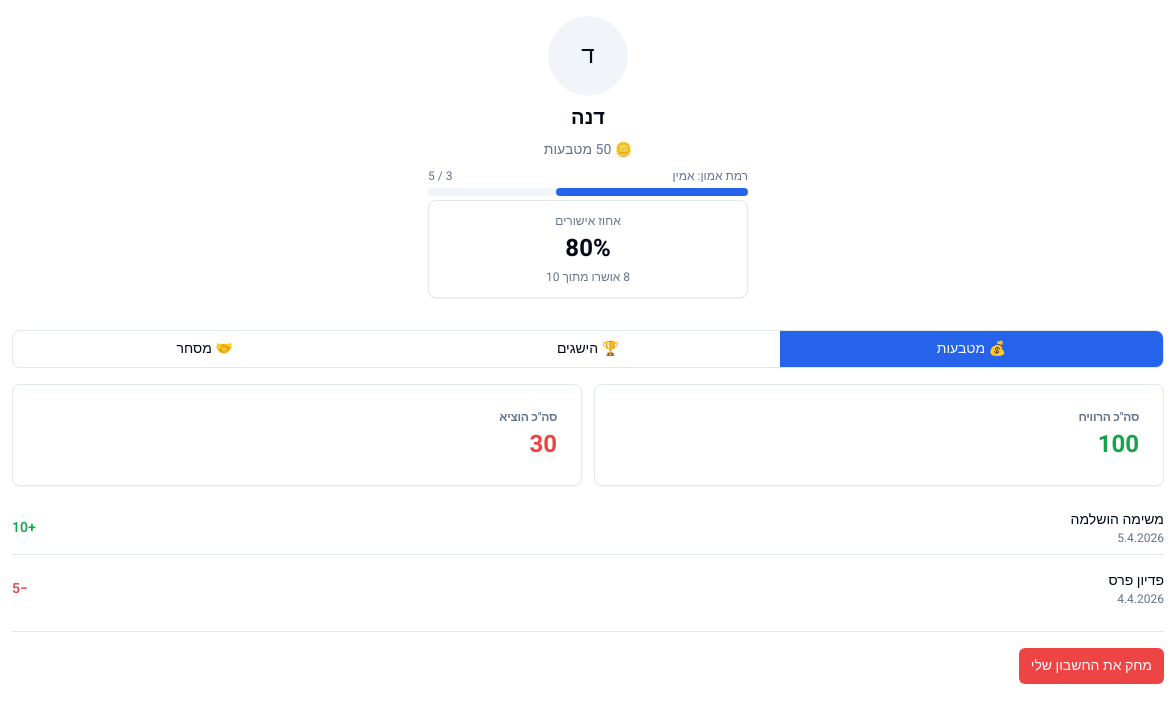
Scenario: ProfilePage › shows locked trade placeholder when trades tab clicked
Click the tab "🤝 מסחר": (205, 349) x1=13 y1=331 x2=396 y2=367
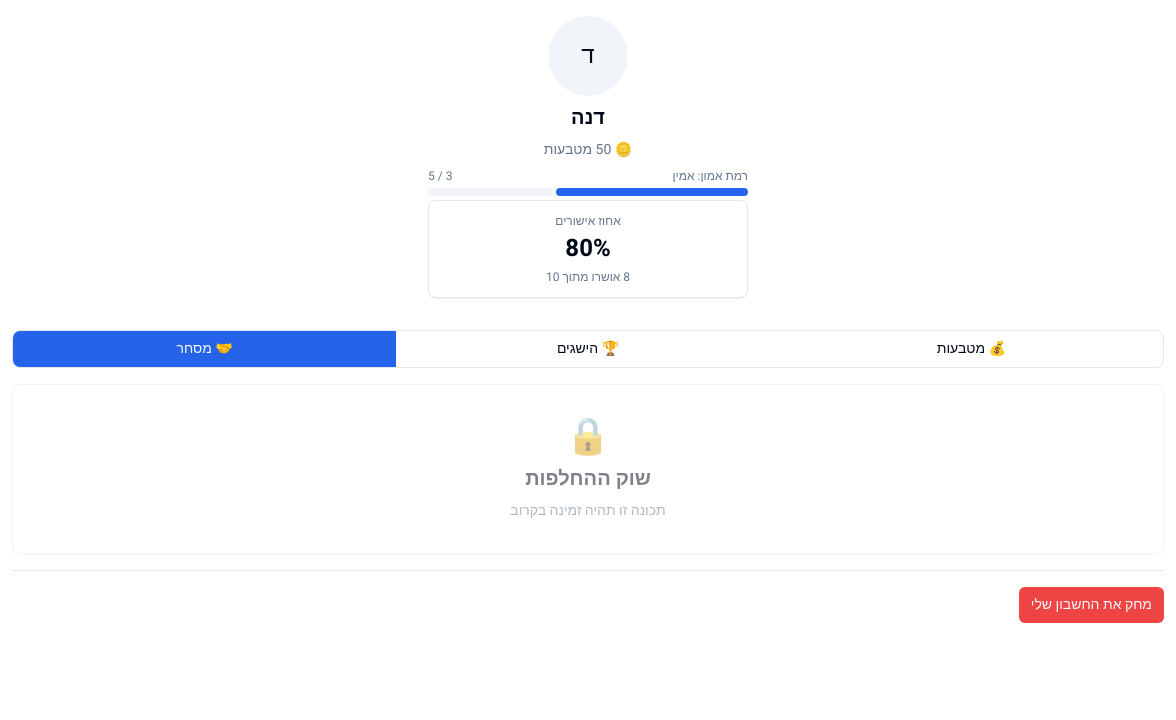
Check: the text "שוק ההחלפות" is shown, box x1=525 y1=465 x2=651 y2=493
Check: the text "תכונה זו תהיה זמינה בקרוב" is shown, box x1=510 y1=501 x2=666 y2=521
